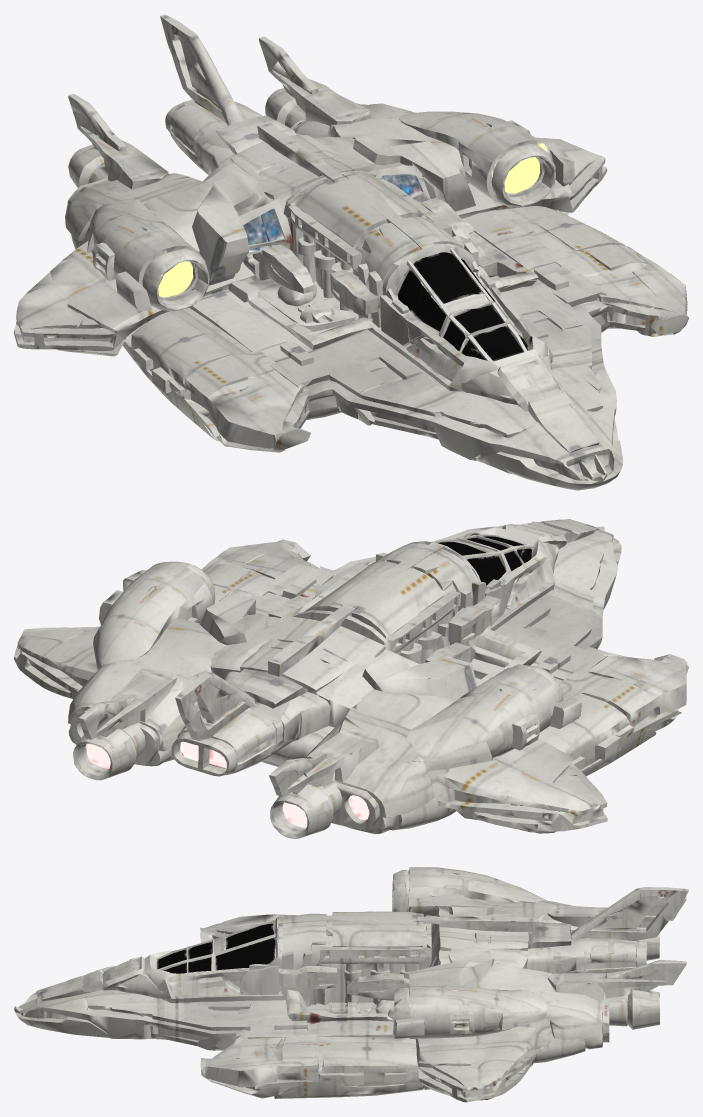
File: support-light.glb
3 views of the same model, one above another, from view 1: azimuth 30°, elevation 25°; view 2: azimuth 150°, elevation 25°; view 3: azimuth 270°, elevation 25° (orthographic). The views are drawn at different scales.
Visible parts, largest first — view 1: Spaceship_cool_AI1.001_gameasset_Spaceship_cool_AI1.001_game; view 2: Spaceship_cool_AI1.001_gameasset_Spaceship_cool_AI1.001_game; view 3: Spaceship_cool_AI1.001_gameasset_Spaceship_cool_AI1.001_game.
Part boxes in pixels (<box>): Spaceship_cool_AI1.001_gameasset_Spaceship_cool_AI1.001_game: <box>14,14,688,490</box>; Spaceship_cool_AI1.001_gameasset_Spaceship_cool_AI1.001_game: <box>14,519,688,838</box>; Spaceship_cool_AI1.001_gameasset_Spaceship_cool_AI1.001_game: <box>14,867,688,1102</box>.
Size of the model in its own units: 405 by 131 by 514.
Materials: 1 (1 with a texture image).
